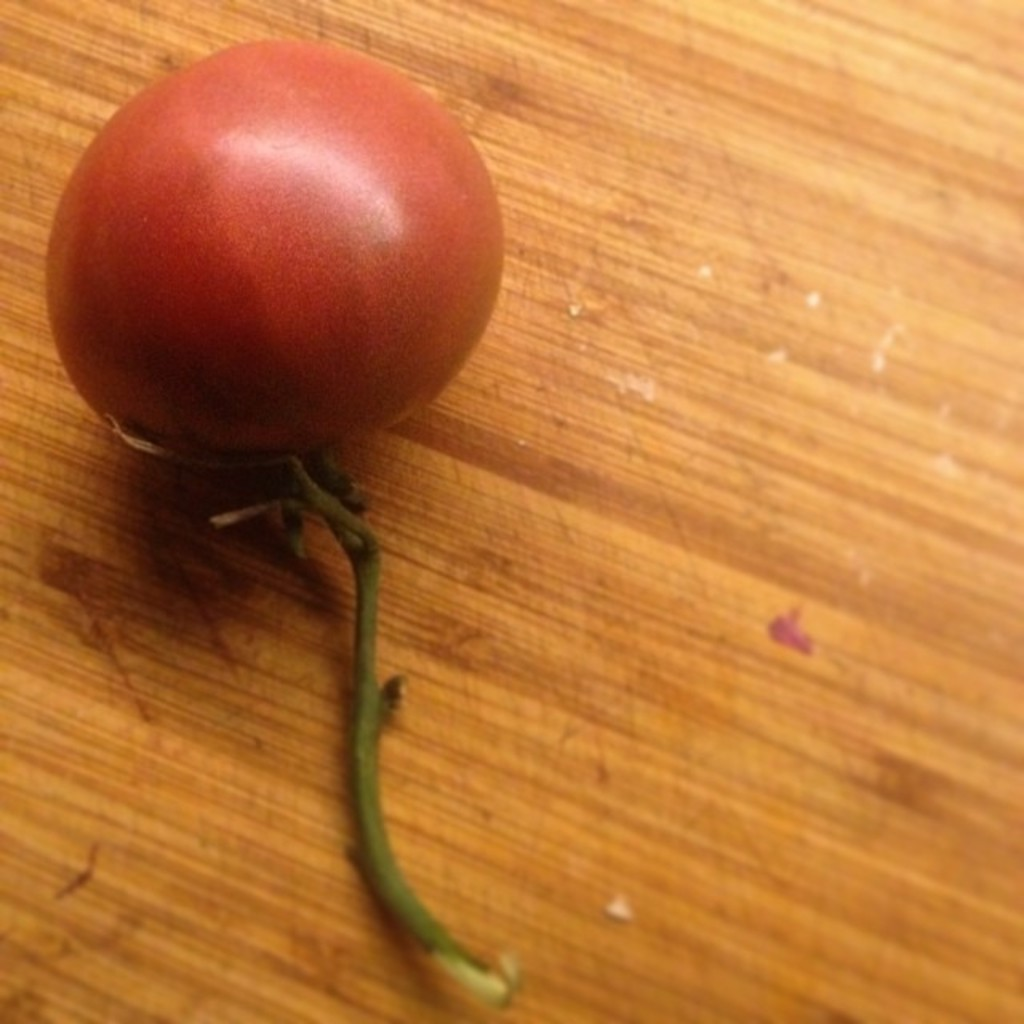Tomato: (22, 43, 508, 465)
